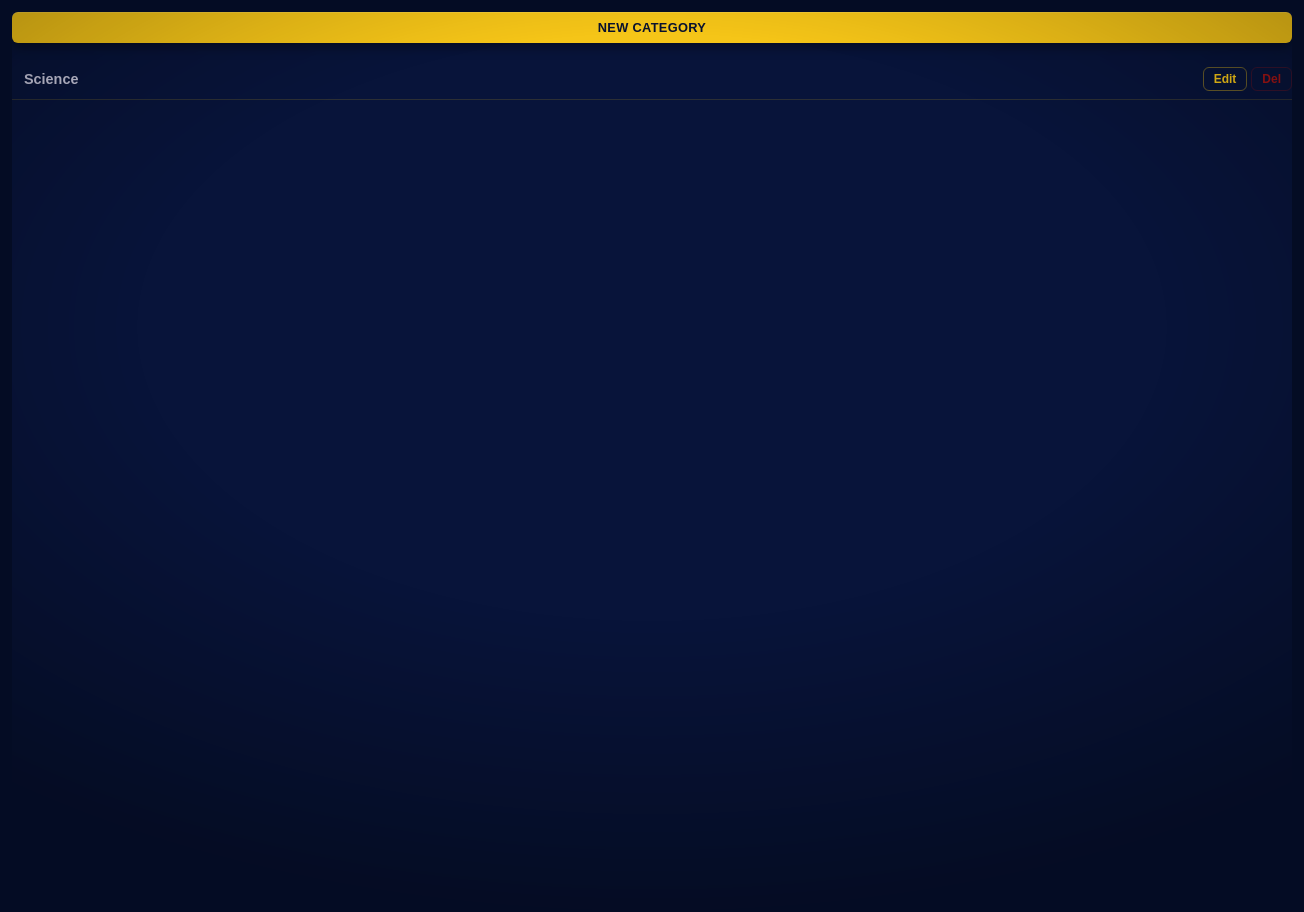
Test: CategoryManagerComponent › clicking "New Category" button shows the form
The width and height of the screenshot is (1304, 912).
Step 1. Click the button with class "btn--primary" → (652, 28), box x1=12 y1=12 x2=1292 y2=43
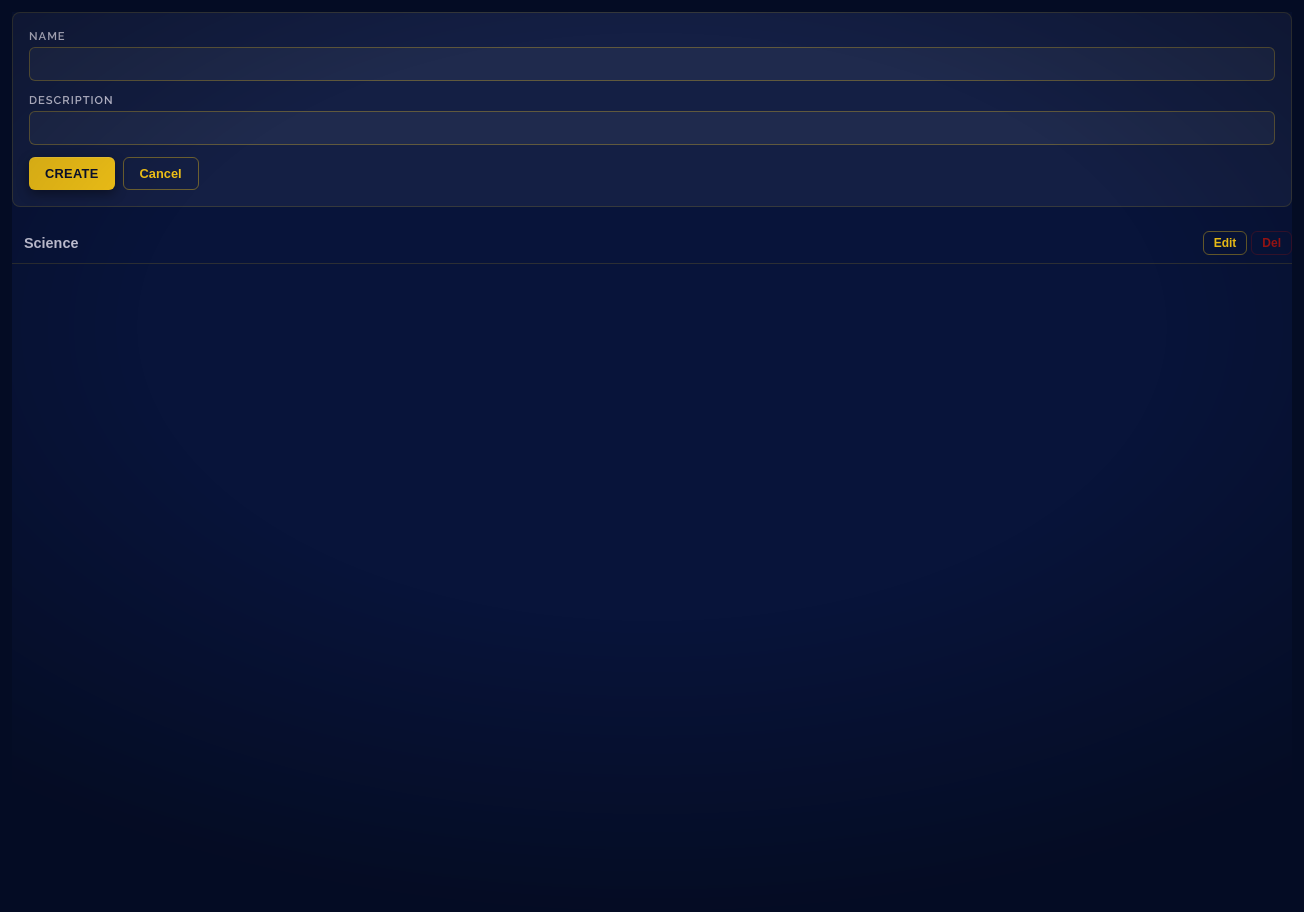
Check: the form with class "cat-form" is shown, box x1=12 y1=12 x2=1292 y2=207
